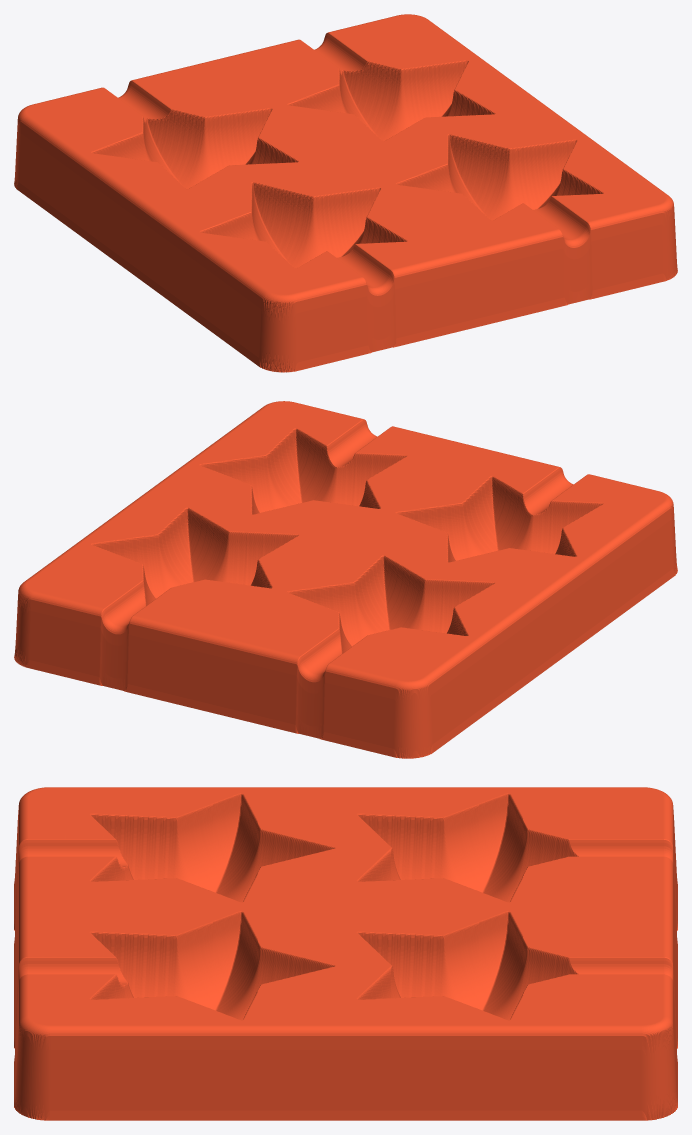
File: mold.glb
3 renders of one model, top to bottom at view 1: azimuth 30°, elevation 25°; view 2: azimuth 150°, elevation 25°; view 3: azimuth 270°, elevation 25°, orthographic. The views are drawn at different scales.
Parts seen in each view (by area): view 1: geometry_0; view 2: geometry_0; view 3: geometry_0.
Part boxes in pixels (x1,y1,x2,y2): geometry_0: (14, 14, 677, 372); geometry_0: (14, 401, 677, 758); geometry_0: (14, 787, 677, 1120).
Size of the model in its own units: 0.1468 by 0.0245 by 0.1651.
